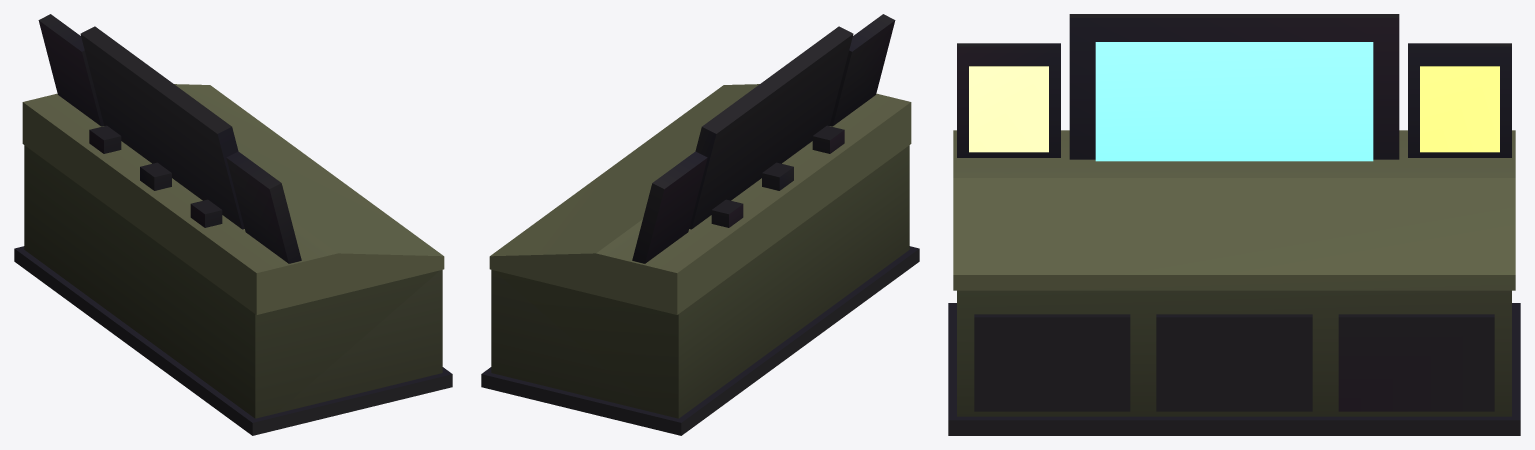
The model's file is kit.dispersal-console.lod1.glb.
3 views of the same model, side by side, from view 1: azimuth 30°, elevation 25°; view 2: azimuth 150°, elevation 25°; view 3: azimuth 270°, elevation 25° (orthographic). The views are drawn at different scales.
Parts seen in each view (by area): view 1: emitter:equipment:9; view 2: emitter:equipment:9; view 3: emitter:equipment:9, emitter:equipment:6.
Part boxes in pixels (x1,y1,x2,y2): emitter:equipment:9: (14,14,452,435); emitter:equipment:9: (481,14,919,435); emitter:equipment:9: (948,14,1520,435); emitter:equipment:6: (1095,42,1373,161).
Bounding box in the file's own units: 1.6 × 2.03 × 3.3.
